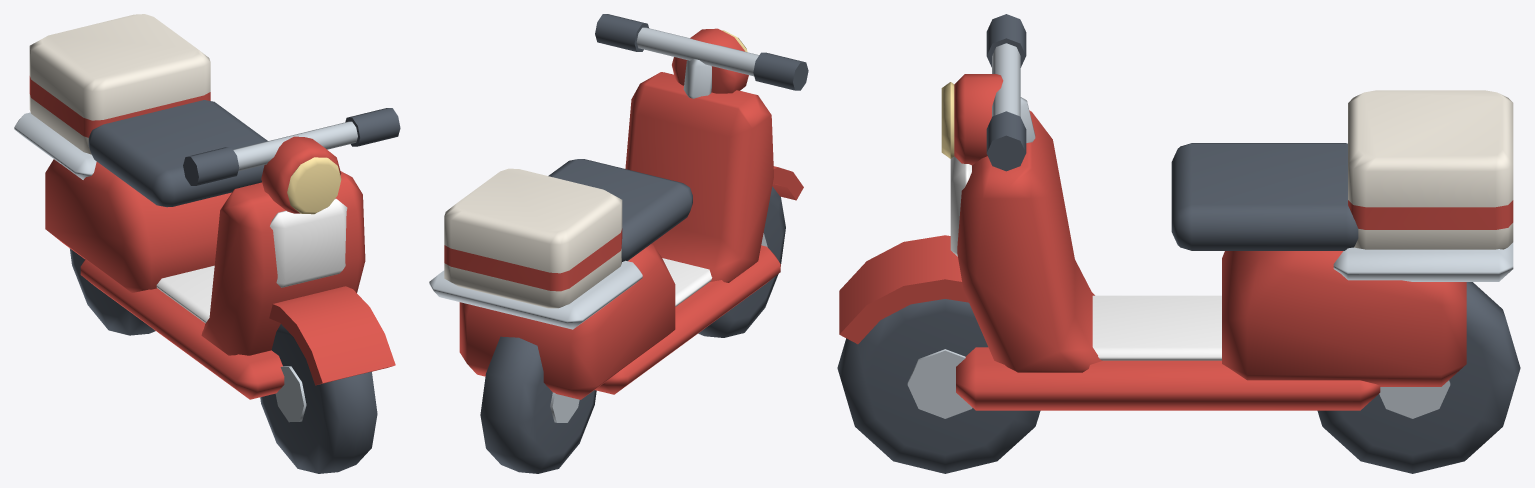
Rendered from town_scooter.glb.
3 renders of one model, left to right at view 1: azimuth 30°, elevation 25°; view 2: azimuth 150°, elevation 25°; view 3: azimuth 270°, elevation 25°, orthographic. The views are drawn at different scales.
Visible parts, largest first — view 1: body, mail_box, seat, wheel_front, front_fender, trim_panels, handlebar, headlamp_housing, headlamp, rack, wheel_rear; view 2: body, mail_box, wheel_rear, handlebar, seat, rack, wheel_front, headlamp_housing, trim_panels, front_fender; view 3: body, mail_box, wheel_front, seat, wheel_rear, trim_panels, front_fender, rack, handlebar, headlamp_housing, headlamp.
Part boxes in pixels (box(x1,y1,x2,y2)): body: box(45, 159, 365, 399); mail_box: box(29, 14, 210, 154); seat: box(88, 100, 267, 207); wheel_front: box(260, 324, 377, 473); front_fender: box(269, 286, 395, 385); trim_panels: box(156, 198, 347, 323); handlebar: box(183, 108, 400, 185); headlamp_housing: box(261, 136, 341, 213); headlamp: box(287, 157, 341, 214); rack: box(14, 112, 96, 179); wheel_rear: box(69, 248, 155, 335); body: box(459, 72, 780, 399); mail_box: box(444, 168, 622, 308); wheel_rear: box(480, 336, 596, 473); handlebar: box(595, 14, 808, 98); seat: box(548, 159, 692, 261); rack: box(429, 260, 642, 329); wheel_front: box(698, 186, 785, 337); headlamp_housing: box(672, 28, 748, 93); trim_panels: box(662, 258, 712, 306); front_fender: box(772, 166, 803, 200); body: box(956, 110, 1466, 410); mail_box: box(1348, 90, 1513, 249); wheel_front: box(837, 299, 1040, 473); seat: box(1171, 143, 1358, 250); wheel_rear: box(1317, 282, 1520, 473); trim_panels: box(950, 156, 1221, 360); front_fender: box(839, 235, 968, 344); rack: box(1333, 242, 1513, 281); handlebar: box(986, 14, 1035, 171); headlamp_housing: box(954, 74, 1003, 165); headlamp: box(941, 82, 954, 158).
Size of the model in its own units: 0.8 by 1.2 by 1.9.
